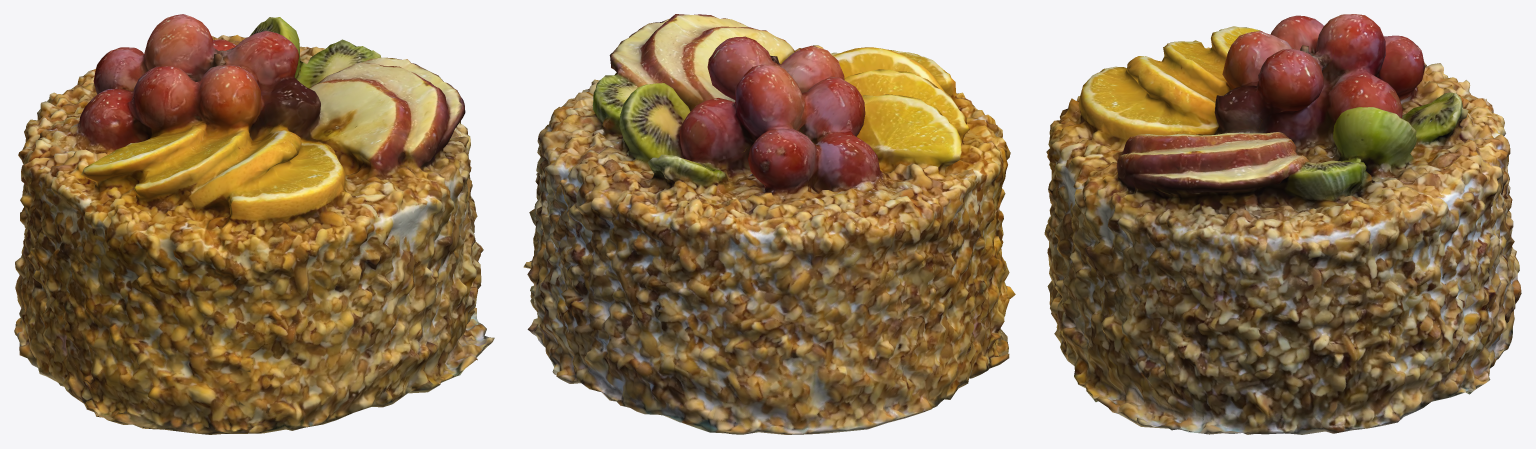
Rendered from yasPasta.glb.
The picture shows the model from 3 angles, left to right: view 1: azimuth 30°, elevation 25°; view 2: azimuth 150°, elevation 25°; view 3: azimuth 270°, elevation 25°; orthographic projection. The views are drawn at different scales.
Visible parts, largest first — view 1: ObjectCapture; view 2: ObjectCapture; view 3: ObjectCapture.
Boxes of the visible parts, x1,y1,x2,y2 form: ObjectCapture: (14, 14, 494, 434); ObjectCapture: (523, 14, 1015, 434); ObjectCapture: (1044, 14, 1521, 434).
Bounding box in the file's own units: 0.1953 × 0.1414 × 0.1952.
Materials: 1 (1 with a texture image).
